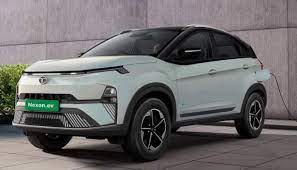Tata Nexon: (11, 23, 269, 164)
